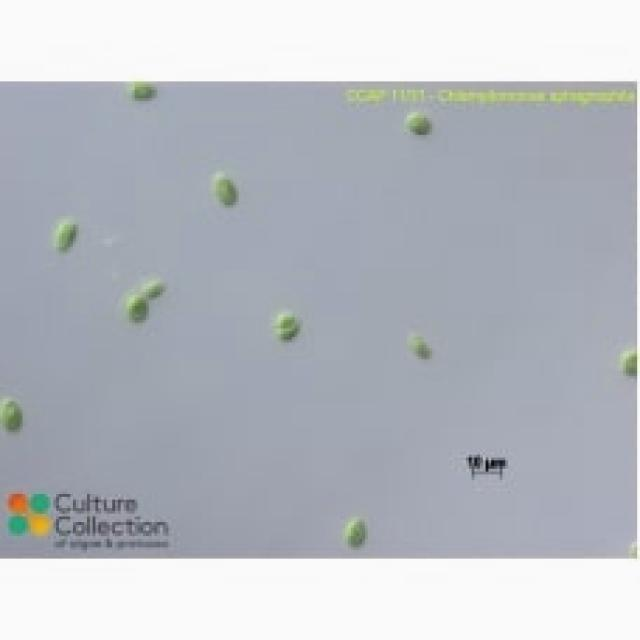Green Algae: (208, 168, 241, 210), (54, 213, 82, 256), (404, 106, 435, 138), (3, 396, 25, 438), (407, 331, 435, 362), (345, 514, 371, 547), (123, 294, 149, 326), (126, 81, 163, 101), (620, 348, 640, 379), (275, 309, 298, 331), (146, 278, 168, 300), (278, 328, 300, 346)
